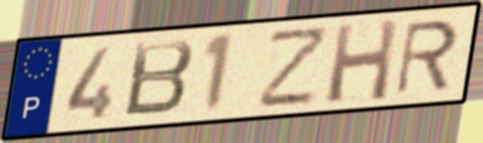1: (199, 31, 236, 117)
4: (63, 44, 117, 121)
B: (120, 36, 197, 119)
H: (324, 15, 401, 106)
R: (392, 17, 462, 98)
Z: (256, 23, 333, 111)
